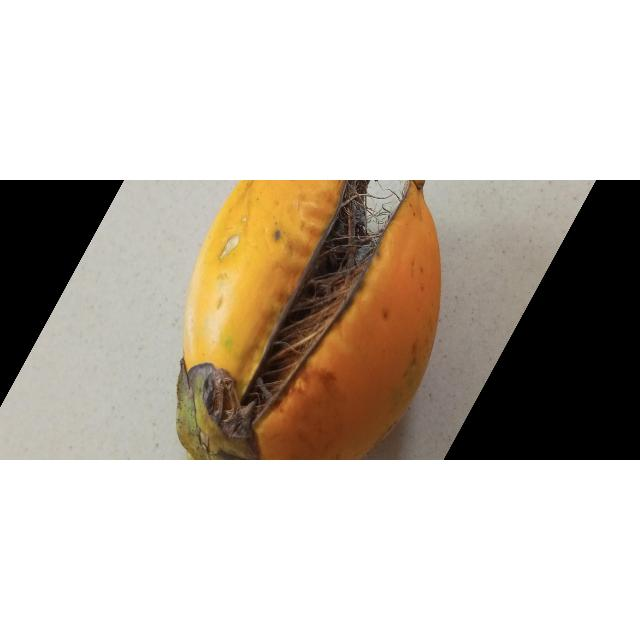damaged: (177, 180, 442, 461)
